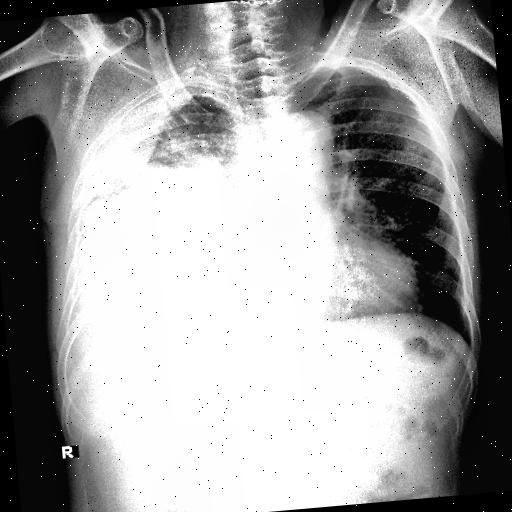0- Aortic enlargement: (272, 108, 336, 162)
10- Pleural effusion: (53, 76, 271, 370), (39, 76, 252, 352), (66, 142, 254, 346)
4- Consolidation: (113, 144, 234, 214)
7- Lung Opacity: (82, 90, 246, 220), (110, 92, 254, 220), (114, 93, 238, 209)
